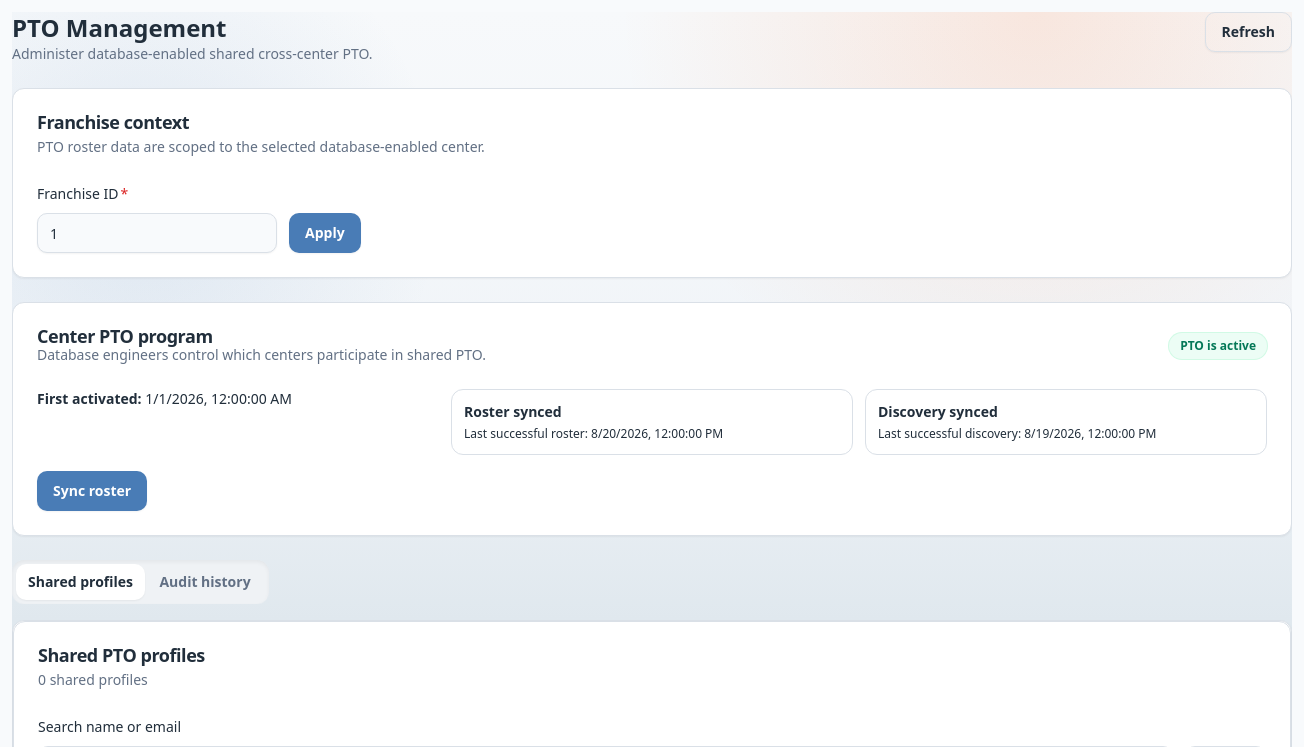
Test: PTO management › keeps the center active and surfaces a roster sync failure
Expected: the text "PTO is active" is shown, [1169,333,1267,359]
Click the button "Sync roster". click: (92, 491)
box: [37,471,147,511]
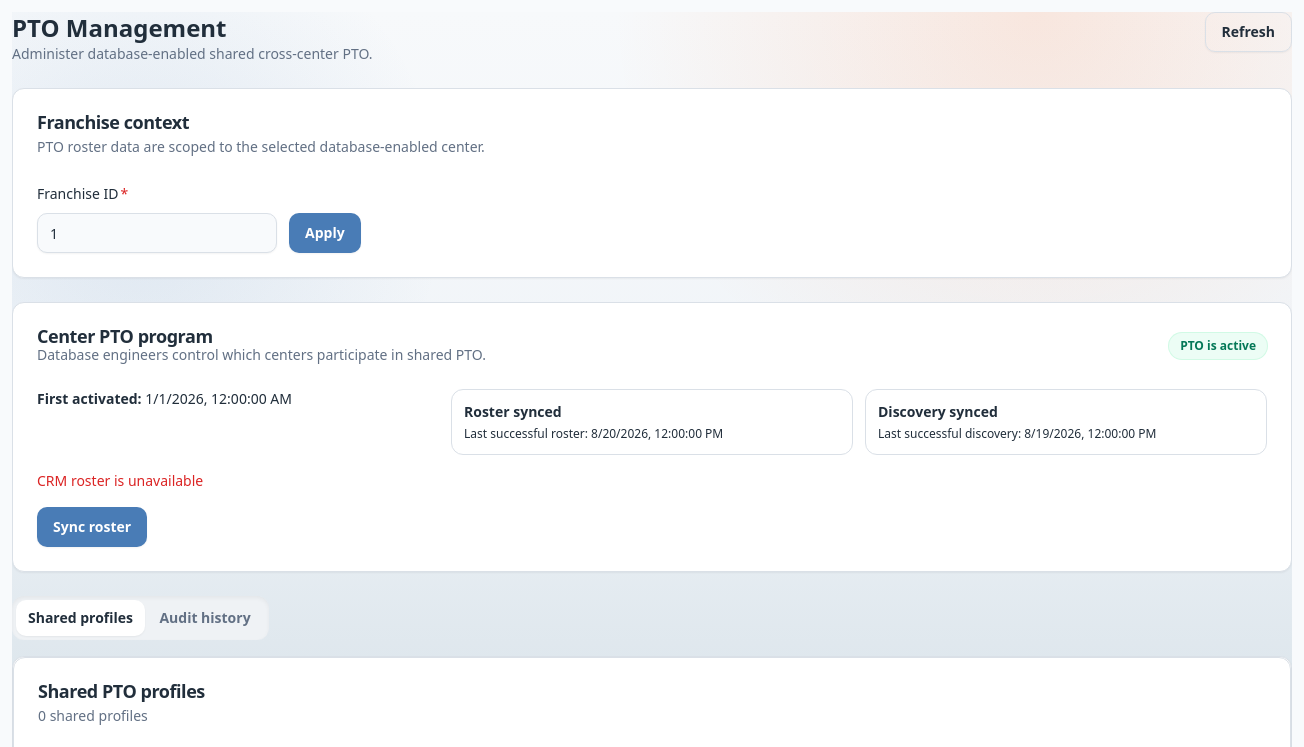
Expected: the text "PTO is active" is shown, [1169,333,1267,359]
Result: the text "CRM roster is unavailable" is shown at [37,471,203,490]
